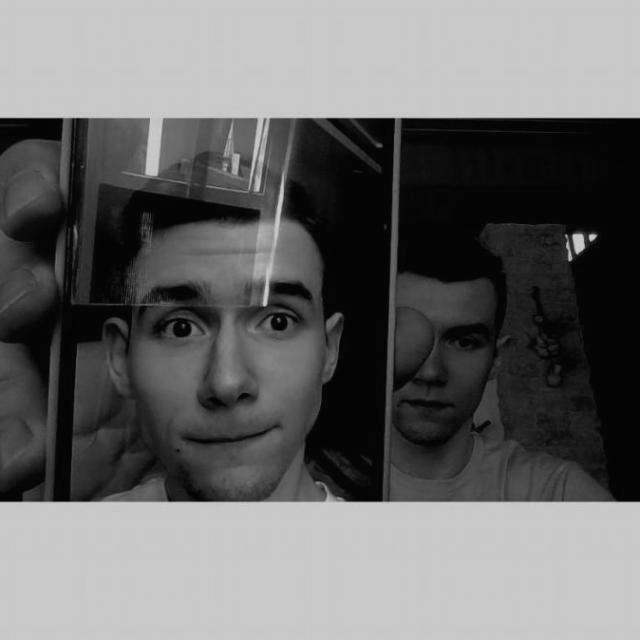fake: (42, 117, 406, 500)
real: (398, 276, 496, 442)
